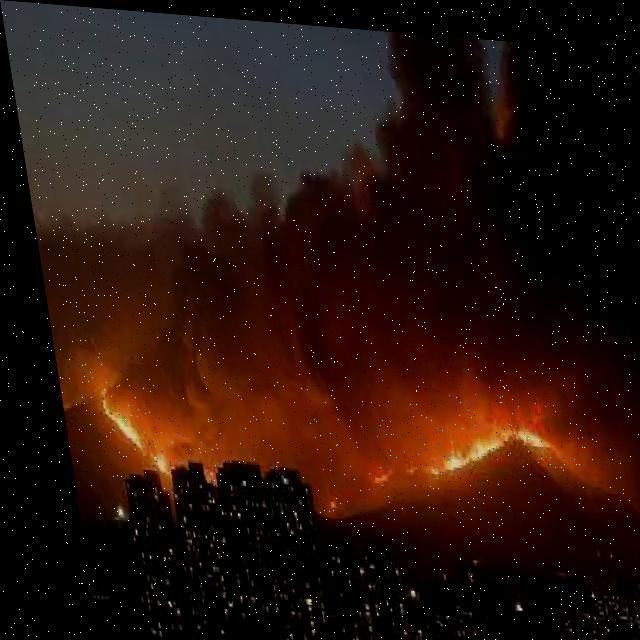Fire: (342, 396, 551, 482), (80, 377, 162, 479)
